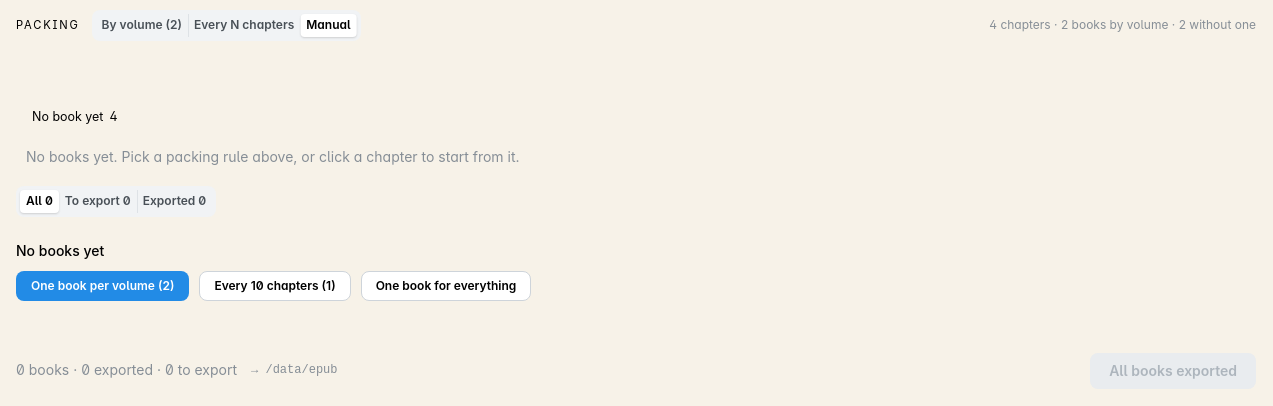
Test: EpubPacker › offers packing rules when there are no books and saves the volume split
Later steps or results of the test are not shown.
Click the button "One book per volume (2)" at (103, 286), box [16,271,189,301]
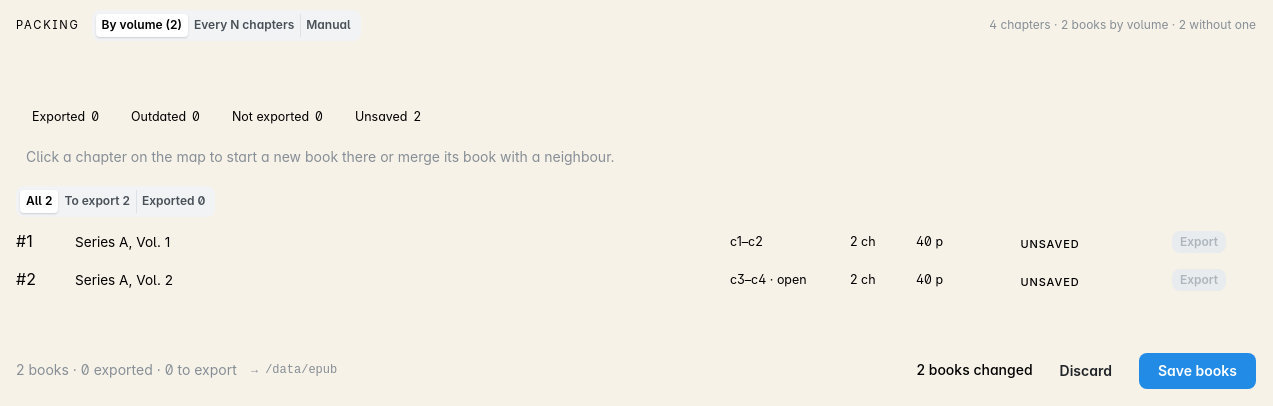
Now the text "2 ch" is shown 2 times, box [850,234,876,249]; [850,272,876,287]
Now the text "2 books changed" is shown, box [916,360,1033,381]
